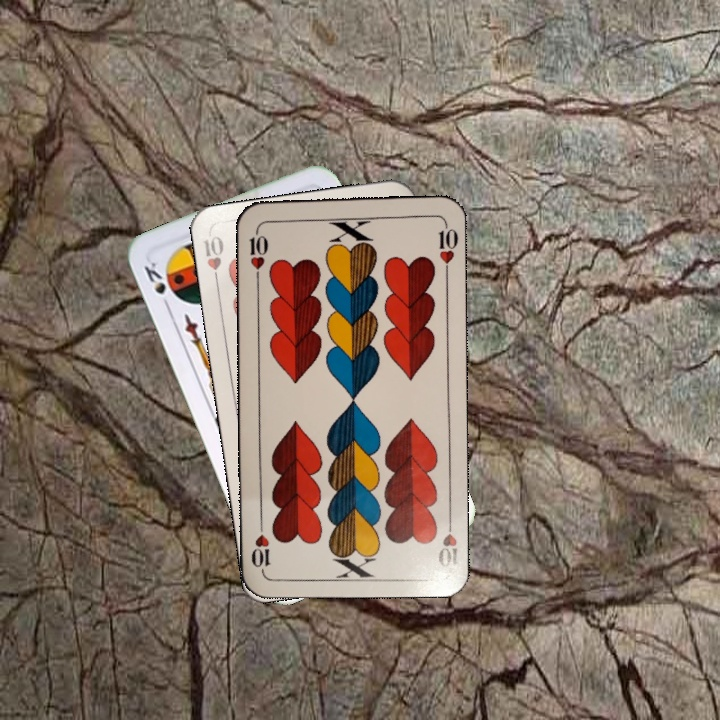H10: (199, 230, 227, 290), (433, 511, 460, 570), (246, 223, 271, 282)
SK: (140, 257, 173, 313)
